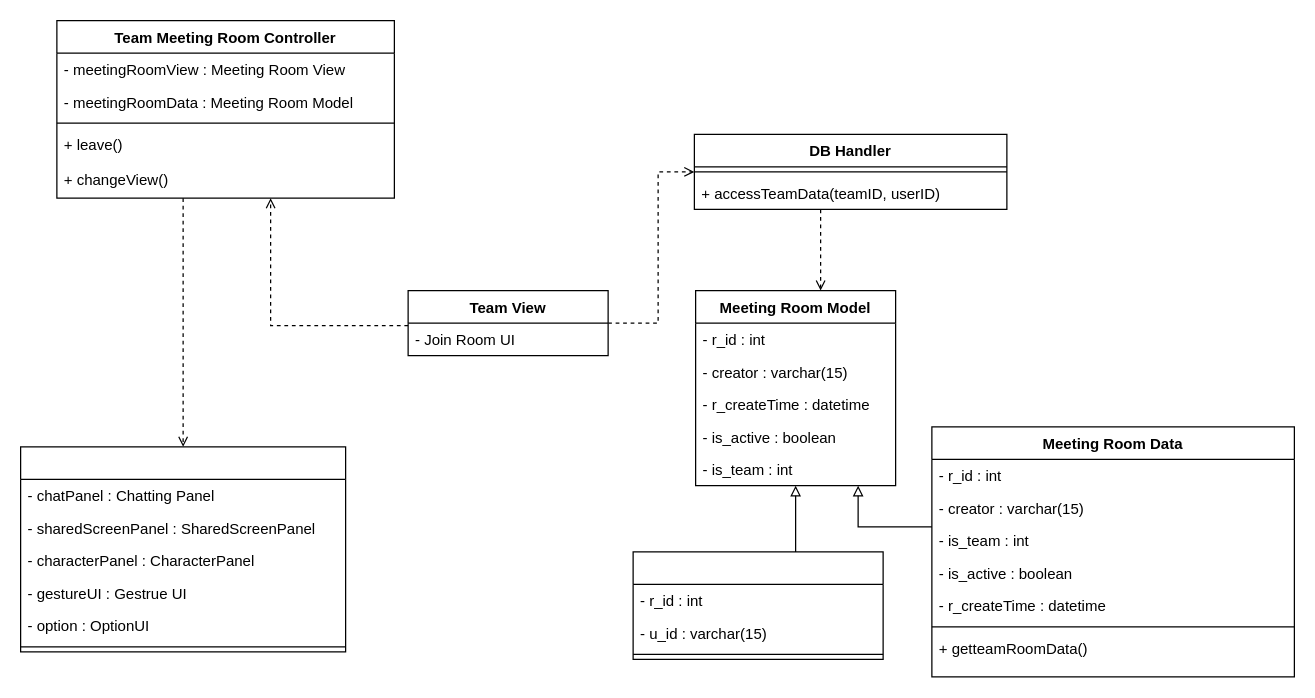
The diagram is 1315 pixels wide and 698 high, and some of its shapes have lost their labels. The box of each missing label's shape, as (x1, y1, x2, y2) in pixels:
Meeting Room View: (19, 446, 346, 652)
Participants Data: (632, 551, 883, 659)
